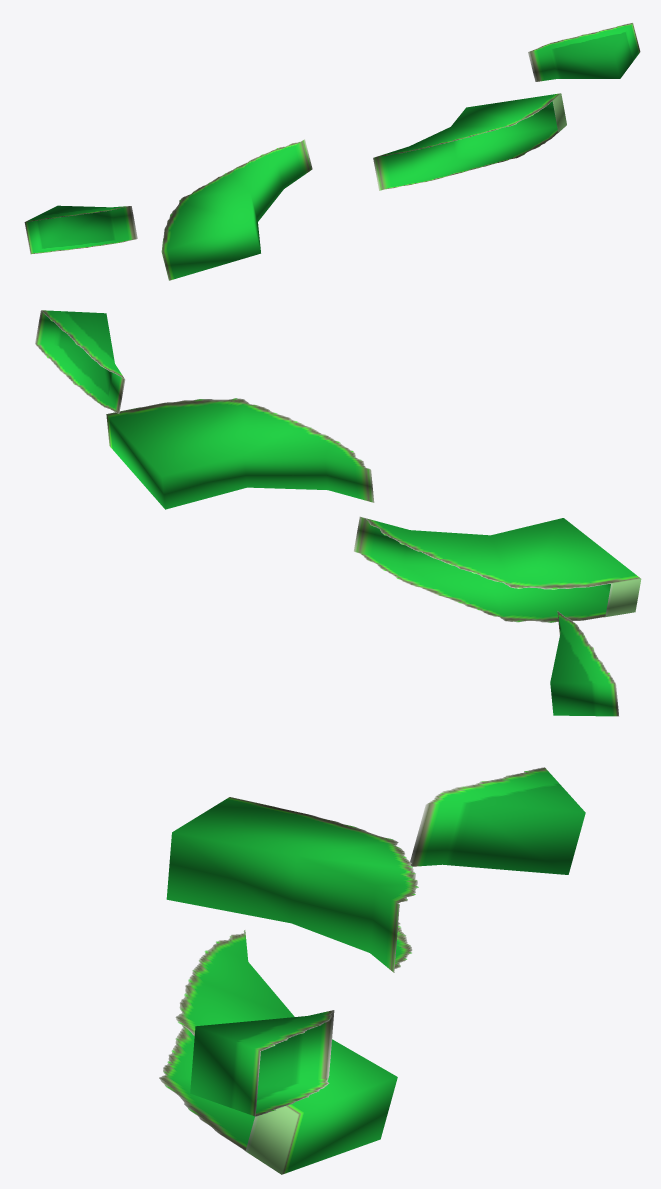
The model's file is OnionCut.03.fbx.
3 renders of one model, top to bottom at view 1: azimuth 30°, elevation 25°; view 2: azimuth 150°, elevation 25°; view 3: azimuth 270°, elevation 25°, orthographic. The views are drawn at different scales.
Visible parts, largest first — view 1: OnionCut.03; view 2: OnionCut.03; view 3: OnionCut.03.
Part boxes in pixels (bbox=[...]): OnionCut.03: bbox=[24, 22, 640, 280]; OnionCut.03: bbox=[35, 310, 641, 716]; OnionCut.03: bbox=[159, 767, 585, 1174].
Bounding box in the file's own units: 38.27 × 9.9 × 14.98.
